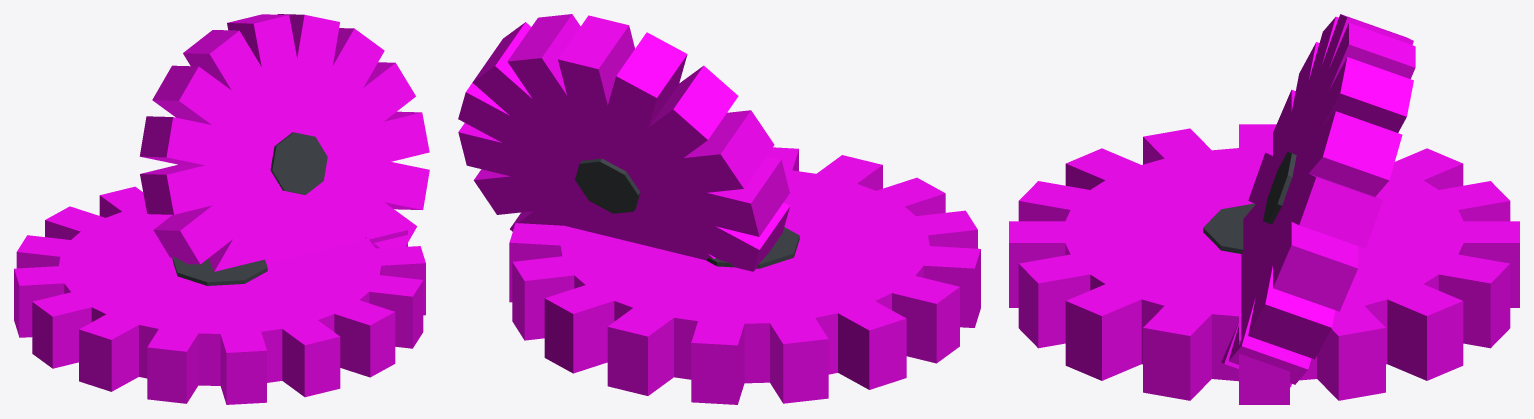
File: objet_engrenage.glb
3 views of the same model, side by side, from view 1: azimuth 30°, elevation 25°; view 2: azimuth 150°, elevation 25°; view 3: azimuth 270°, elevation 25° (orthographic). The views are drawn at different scales.
Visible parts, largest first — view 1: engrenages_teinte.002, engrenages_teinte_sombre.002; view 2: engrenages_teinte.002, engrenages_teinte_sombre.002; view 3: engrenages_teinte.002, engrenages_teinte_sombre.002.
Boxes of the visible parts, x1,y1,x2,y2 form: engrenages_teinte.002: [14, 14, 429, 404]; engrenages_teinte_sombre.002: [172, 132, 327, 285]; engrenages_teinte.002: [458, 14, 980, 404]; engrenages_teinte_sombre.002: [575, 158, 799, 268]; engrenages_teinte.002: [1009, 14, 1519, 404]; engrenages_teinte_sombre.002: [1203, 152, 1296, 253].
Size of the model in its own units: 0.275 by 0.1804 by 0.25.
